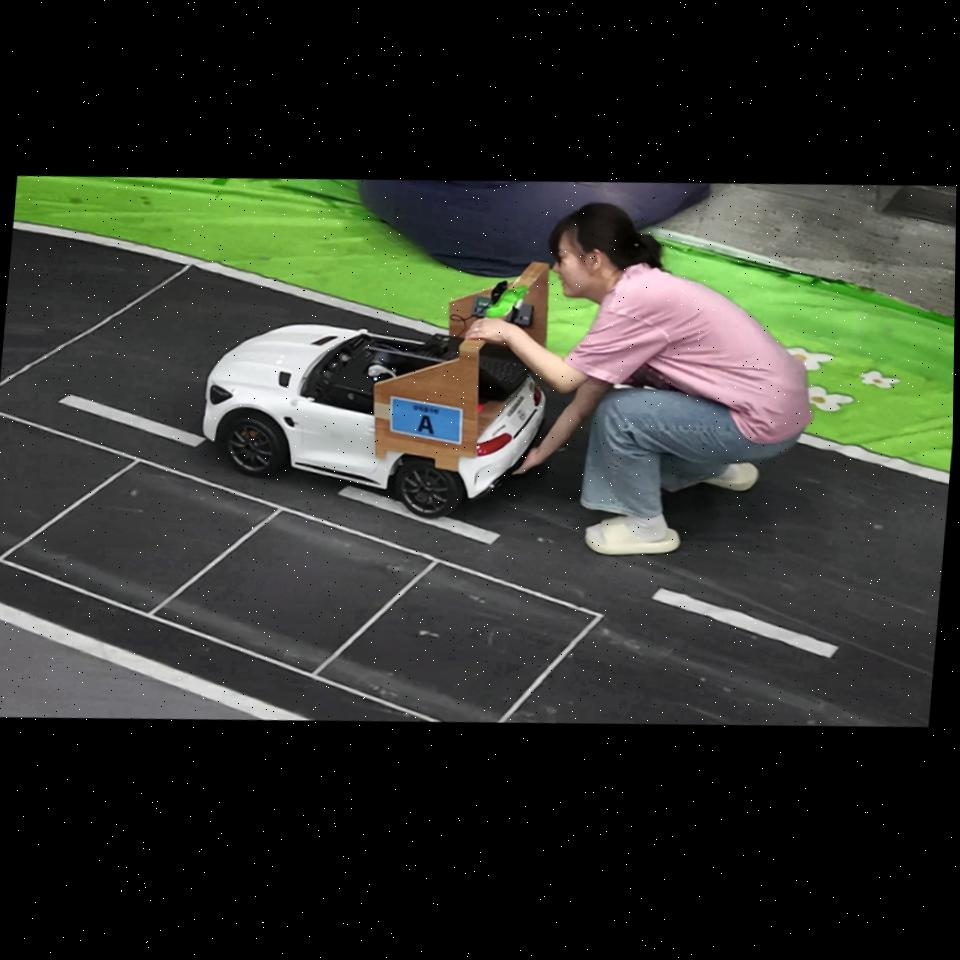broken_line: (652, 588, 839, 658), (337, 486, 500, 545), (58, 394, 206, 447)
